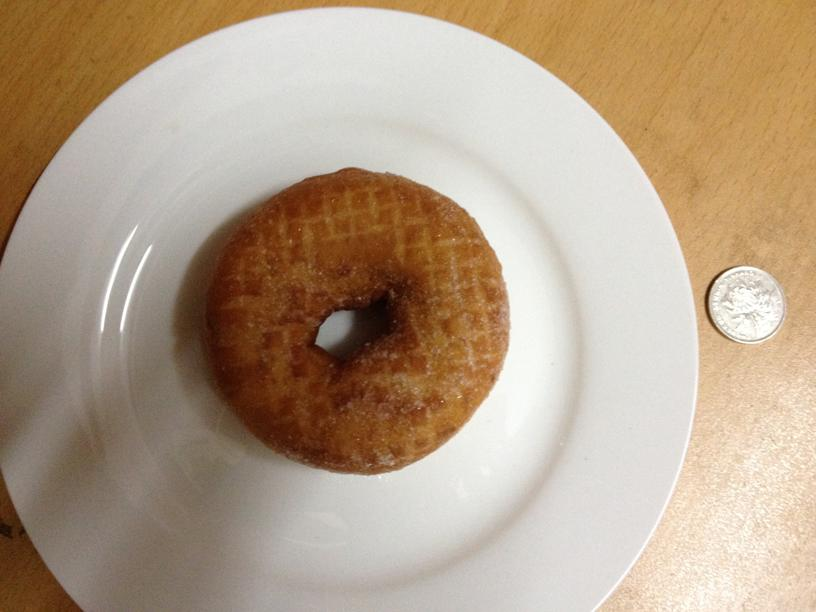coin: (706, 265, 785, 346)
doughnut: (208, 163, 509, 478)
